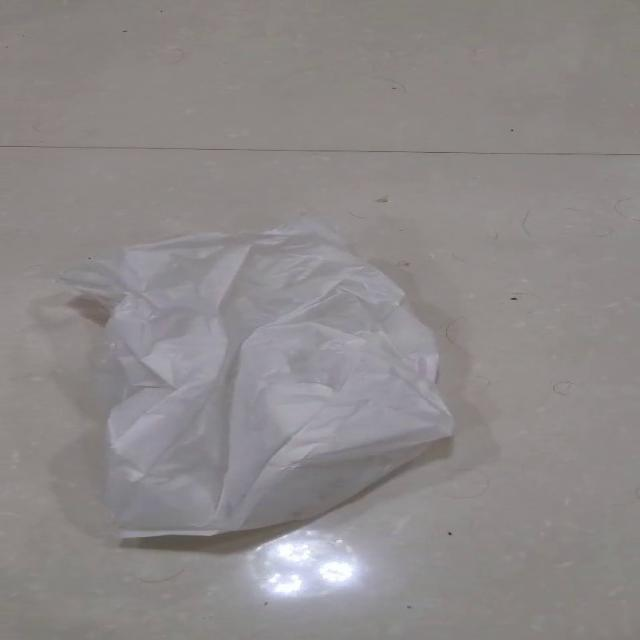plastic: (53, 215, 454, 539)
